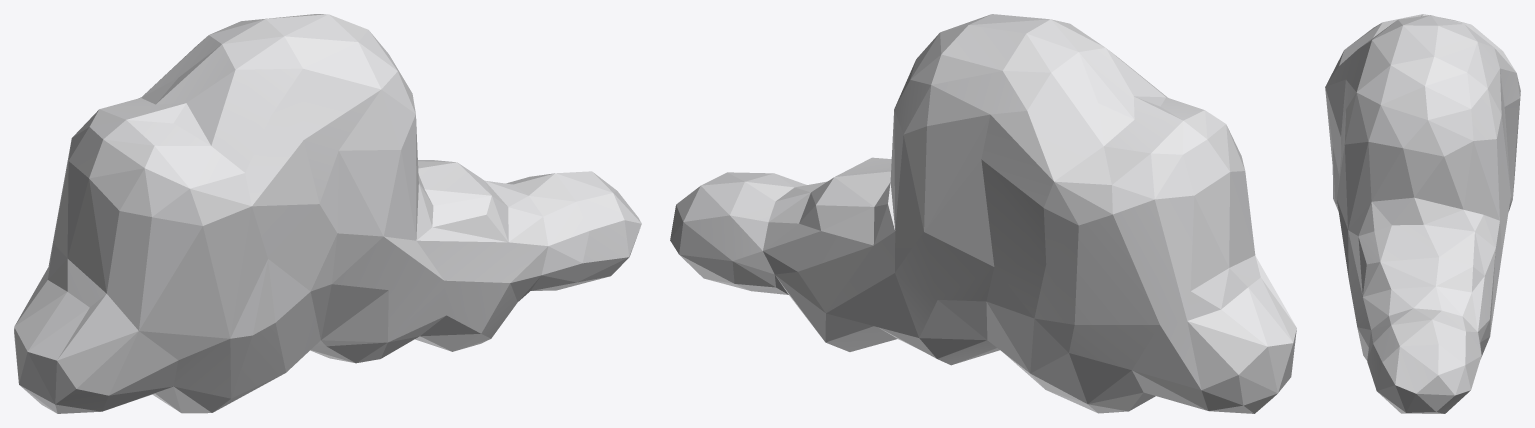
File: big_cloud_9.fbx
3 views of the same model, side by side, from view 1: azimuth 30°, elevation 25°; view 2: azimuth 150°, elevation 25°; view 3: azimuth 270°, elevation 25° (orthographic). The views are drawn at different scales.
Visible parts, largest first — view 1: cloud_49; view 2: cloud_49; view 3: cloud_49.
Part boxes in pixels (x1=…): cloud_49: x1=14, y1=14, x2=641, y2=413; cloud_49: x1=670, y1=14, x2=1296, y2=413; cloud_49: x1=1325, y1=14, x2=1520, y2=413.
Bounding box in the file's own units: 756 × 427 × 257.
